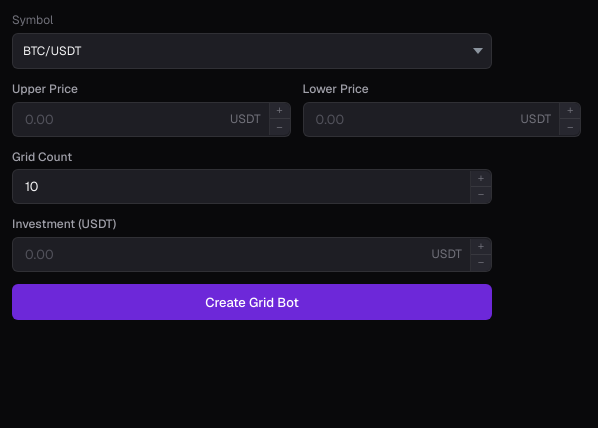
Test case: GridBotForm › rejects grid count below minimum of 2
In the field labelled "Upper Price": (118, 119) x1=13 y1=103 x2=222 y2=136, type "70000"
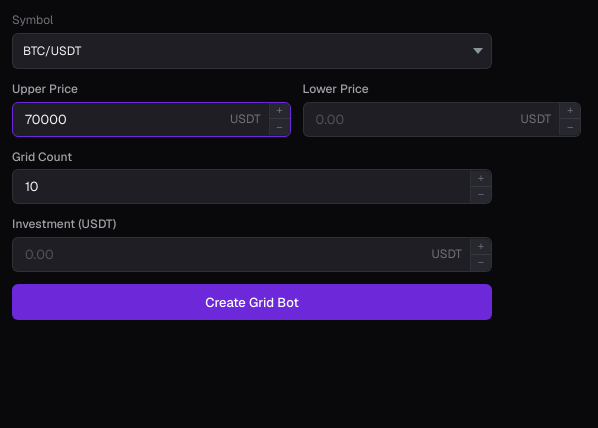
In the field labelled "Lower Price": (408, 119) x1=304 y1=103 x2=513 y2=136, type "60000"
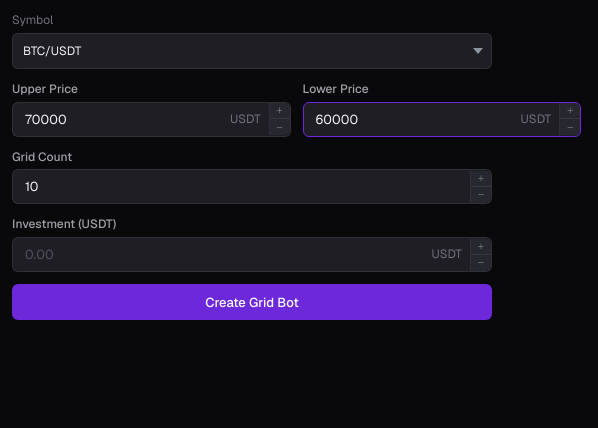
In the field labelled "Investment (USDT)": (218, 255) x1=13 y1=238 x2=423 y2=271, type "1000"
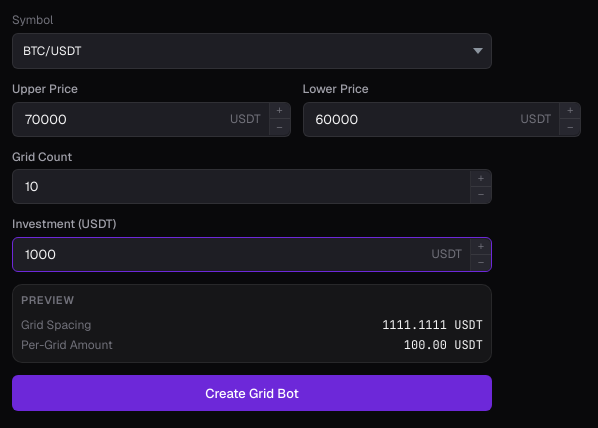
In the field labelled "Grid Count": (242, 187) x1=13 y1=170 x2=470 y2=203, type "1"
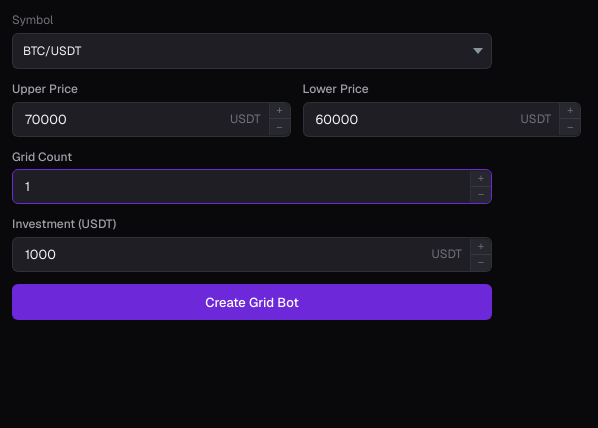
Click the button "Create Grid Bot": (252, 302) x1=12 y1=284 x2=492 y2=320
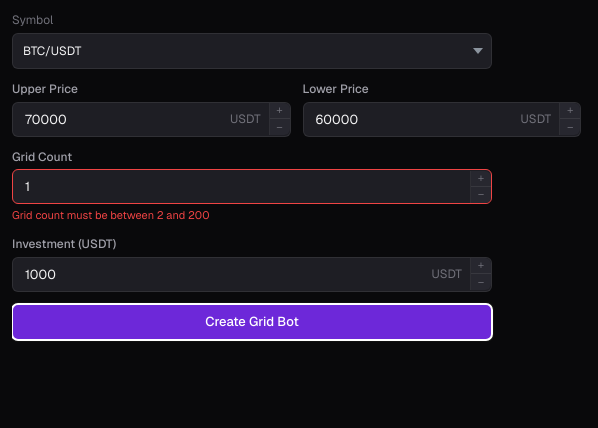
Check: the text "Grid count must be between 2 and 200" is shown, box x1=12 y1=208 x2=209 y2=222
